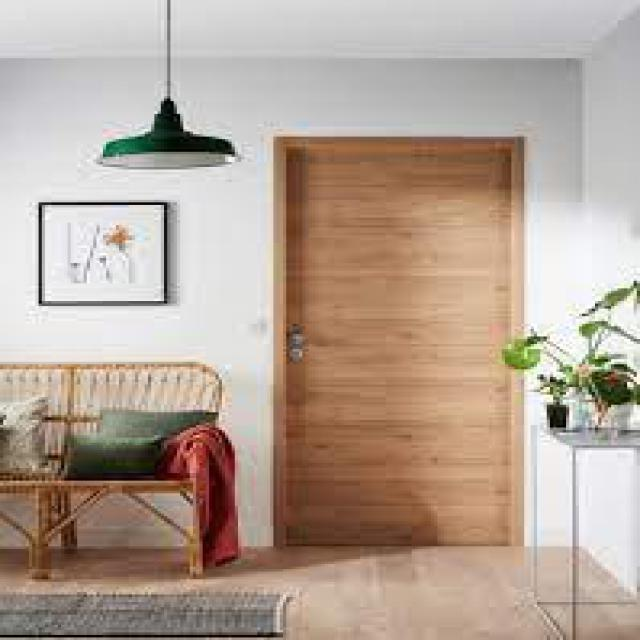close: (251, 109, 550, 564)
